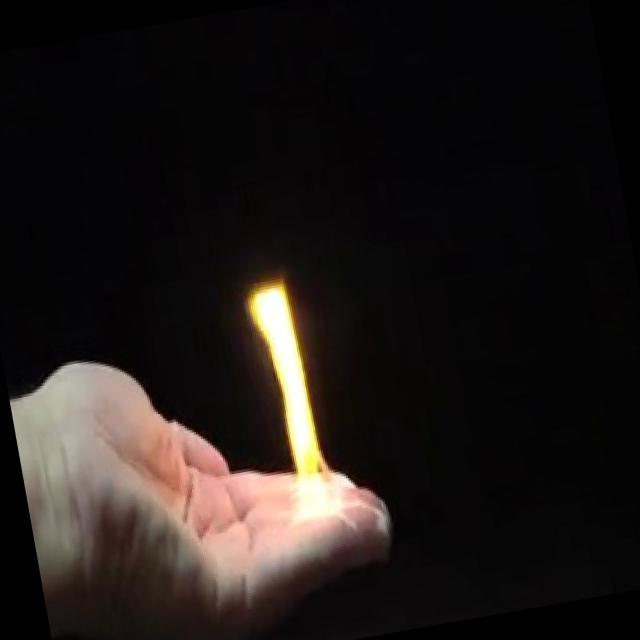Fire: (235, 264, 351, 532)
